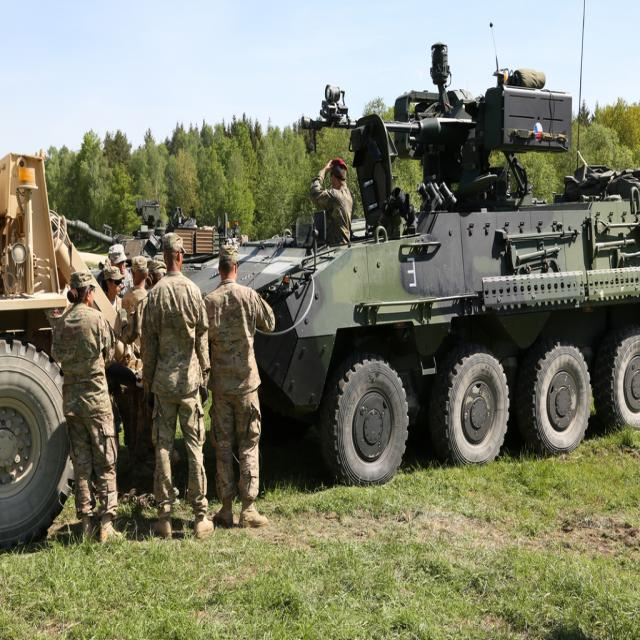tank: (179, 0, 639, 485), (0, 154, 127, 551)
